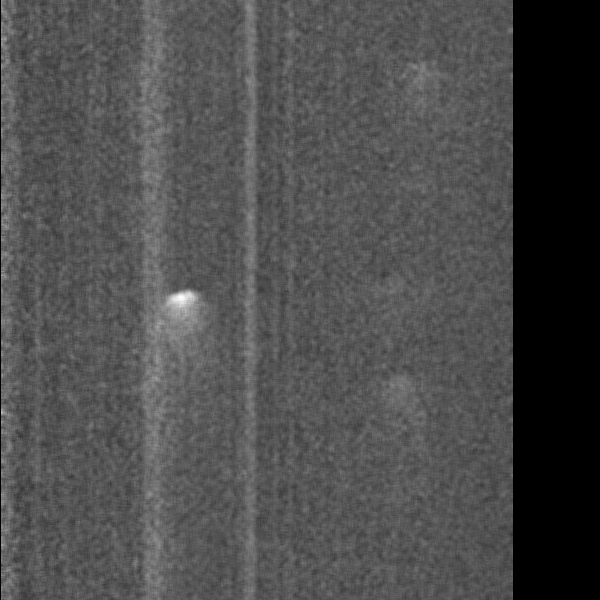spark: (157, 284, 208, 362), (386, 372, 412, 434), (402, 58, 427, 73)
